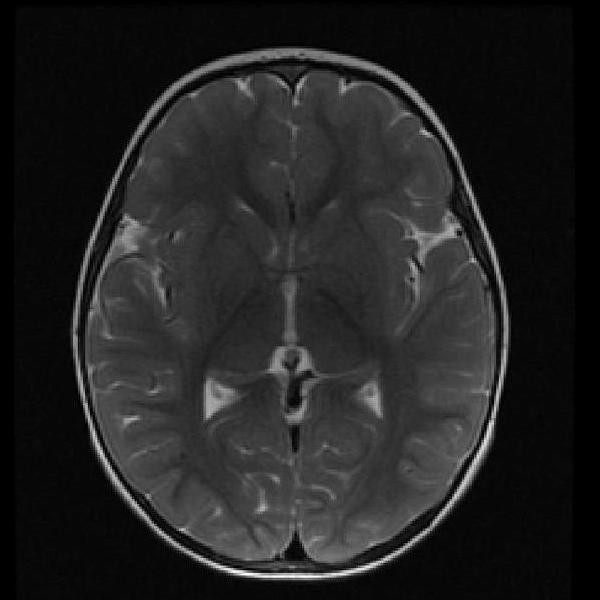Normal_Brain: (12, 2, 544, 600)
